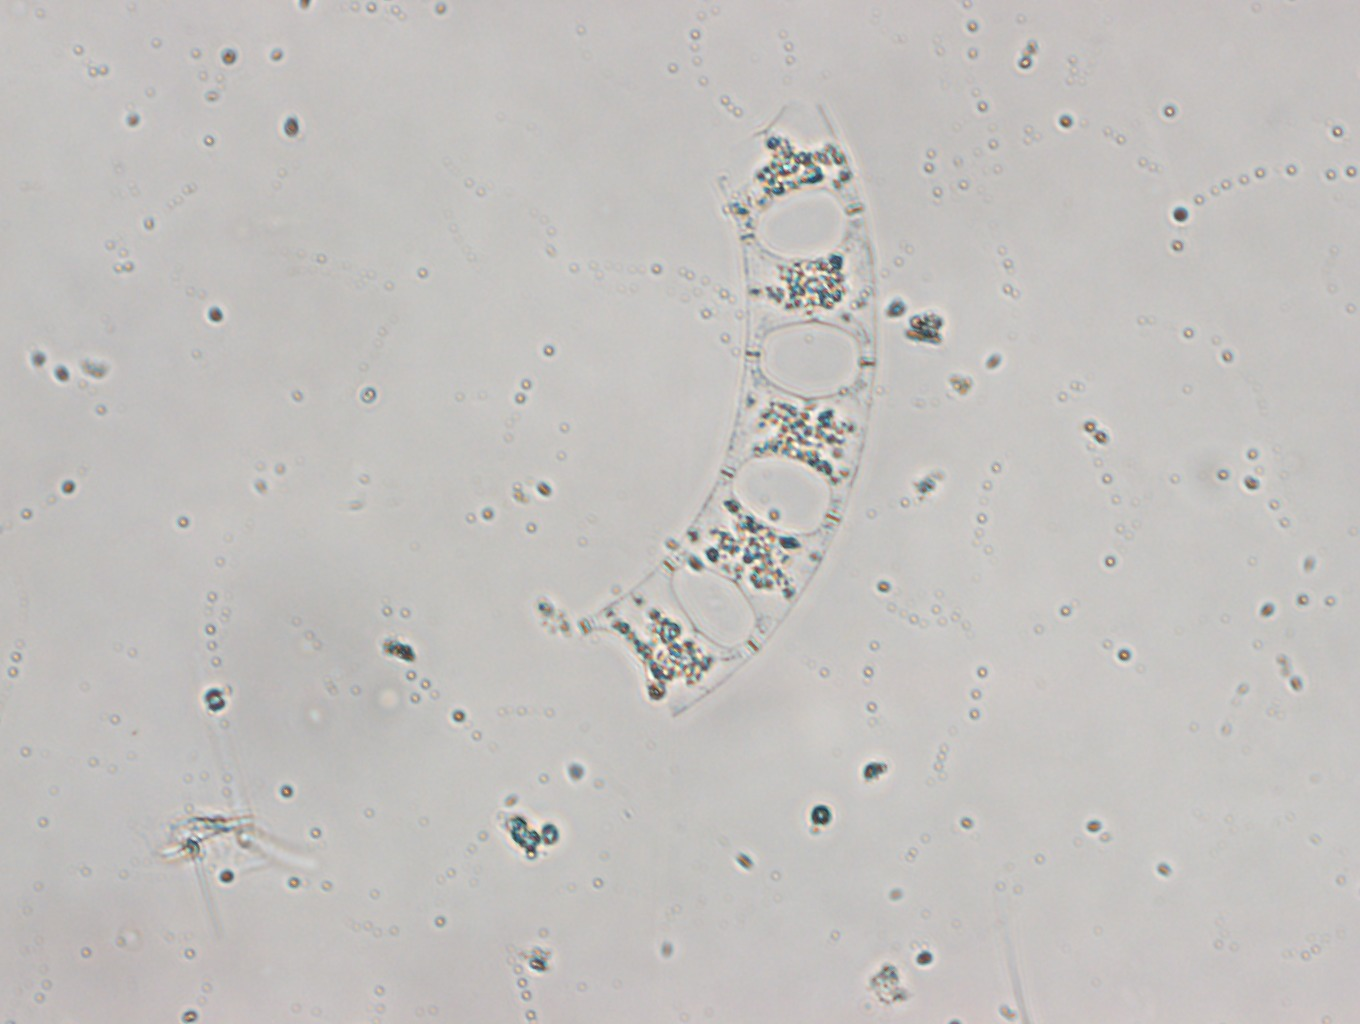eucampia: (574, 99, 879, 717)
